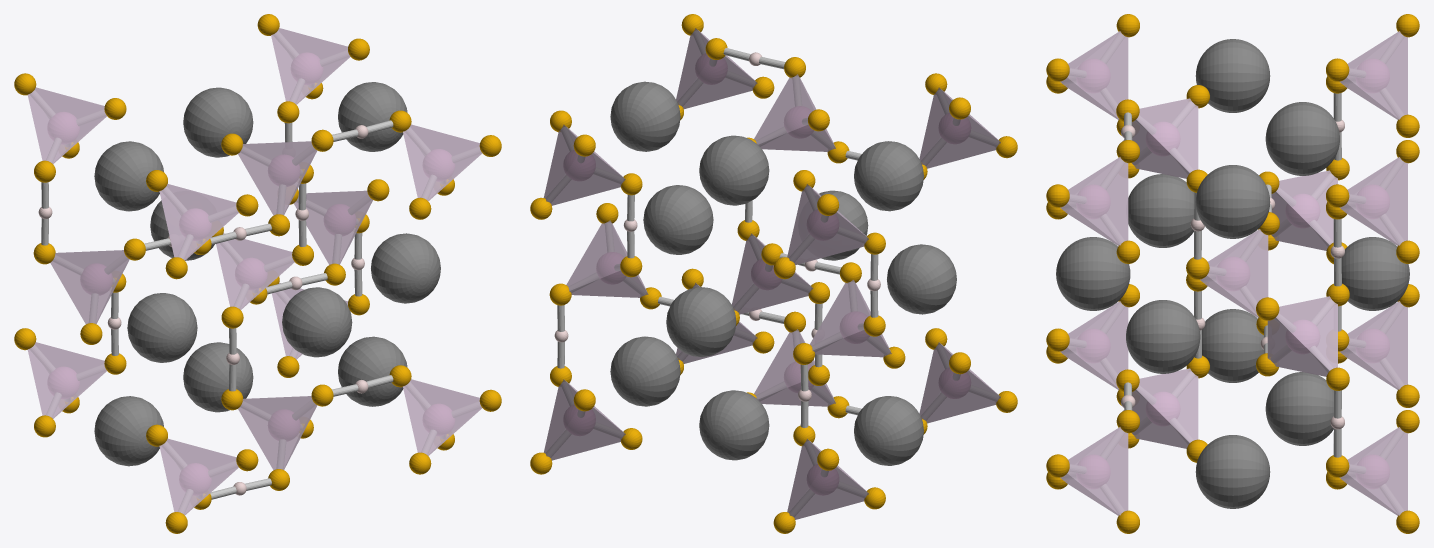
Rendered from KP(HO2)2_wrl.fbx.
The picture shows the model from 3 angles, left to right: view 1: azimuth 30°, elevation 25°; view 2: azimuth 150°, elevation 25°; view 3: azimuth 270°, elevation 25°; orthographic projection. The views are drawn at different scales.
Visible parts, largest first — view 1: atom0_IndexedFaceSet, atom3_IndexedFaceSet, atom0_IndexedFaceSet.001, Shape_IndexedFaceSet.005, Shape_IndexedFaceSet.001, Shape_IndexedFaceSet.041, Shape_IndexedFaceSet.014, Shape_IndexedFaceSet.022, Shape_IndexedFaceSet.030, Shape_IndexedFaceSet.010, Shape_IndexedFaceSet.018, atom1_IndexedFaceSet.002 (+47 smaller); view 2: atom0_IndexedFaceSet.001, atom0_IndexedFaceSet, atom3_IndexedFaceSet.001, atom2_IndexedFaceSet.001, atom2_IndexedFaceSet, atom1_IndexedFaceSet.001, atom1_IndexedFaceSet.003, atom1_IndexedFaceSet, atom1_IndexedFaceSet.002, Shape_IndexedFaceSet.020, Shape_IndexedFaceSet.008, Shape_IndexedFaceSet.012 (+46 smaller); view 3: atom1_IndexedFaceSet.001, atom1_IndexedFaceSet, atom2_IndexedFaceSet.001, atom0_IndexedFaceSet, atom3_IndexedFaceSet, atom1_IndexedFaceSet.003, atom2_IndexedFaceSet, atom0_IndexedFaceSet.001, atom3_IndexedFaceSet.001, atom1_IndexedFaceSet.002, Shape_IndexedFaceSet.039, Shape_IndexedFaceSet.031 (+62 smaller).
Boxes of the visible parts, x1,y1,x2,y2 form: atom0_IndexedFaceSet: (371,233,440,303); atom3_IndexedFaceSet: (282,287,352,357); atom0_IndexedFaceSet.001: (127,293,197,362); Shape_IndexedFaceSet.005: (238,396,317,470); Shape_IndexedFaceSet.001: (238,141,317,215); Shape_IndexedFaceSet.041: (50,250,129,324); Shape_IndexedFaceSet.014: (159,184,238,260); Shape_IndexedFaceSet.022: (159,438,238,515); Shape_IndexedFaceSet.030: (403,124,482,201); Shape_IndexedFaceSet.010: (27,87,106,163); Shape_IndexedFaceSet.018: (27,342,106,418); atom1_IndexedFaceSet.002: (94,396,163,466); atom0_IndexedFaceSet.001: (887,244,956,314); atom0_IndexedFaceSet: (643,185,713,254); atom3_IndexedFaceSet.001: (666,287,736,357); atom2_IndexedFaceSet.001: (699,135,769,205); atom2_IndexedFaceSet: (699,390,769,460); atom1_IndexedFaceSet.001: (610,81,680,151); atom1_IndexedFaceSet.003: (854,141,923,211); atom1_IndexedFaceSet: (610,336,680,406); atom1_IndexedFaceSet.002: (854,396,923,465); Shape_IndexedFaceSet.020: (922,370,1000,423); Shape_IndexedFaceSet.008: (790,212,868,265); Shape_IndexedFaceSet.012: (922,115,1000,168); atom1_IndexedFaceSet.001: (1195,165,1270,238); atom1_IndexedFaceSet: (1195,435,1270,508); atom2_IndexedFaceSet.001: (1265,102,1339,175); atom0_IndexedFaceSet: (1126,300,1200,373); atom3_IndexedFaceSet: (1056,237,1130,310); atom1_IndexedFaceSet.003: (1195,39,1270,112); atom2_IndexedFaceSet: (1265,372,1333,445); atom0_IndexedFaceSet.001: (1128,174,1194,247); atom3_IndexedFaceSet.001: (1341,237,1409,310); atom1_IndexedFaceSet.002: (1202,309,1263,382); Shape_IndexedFaceSet.039: (1067,427,1128,515); Shape_IndexedFaceSet.031: (1067,157,1128,245).
Bounding box in the file's own units: 1030 × 1030 × 943.
